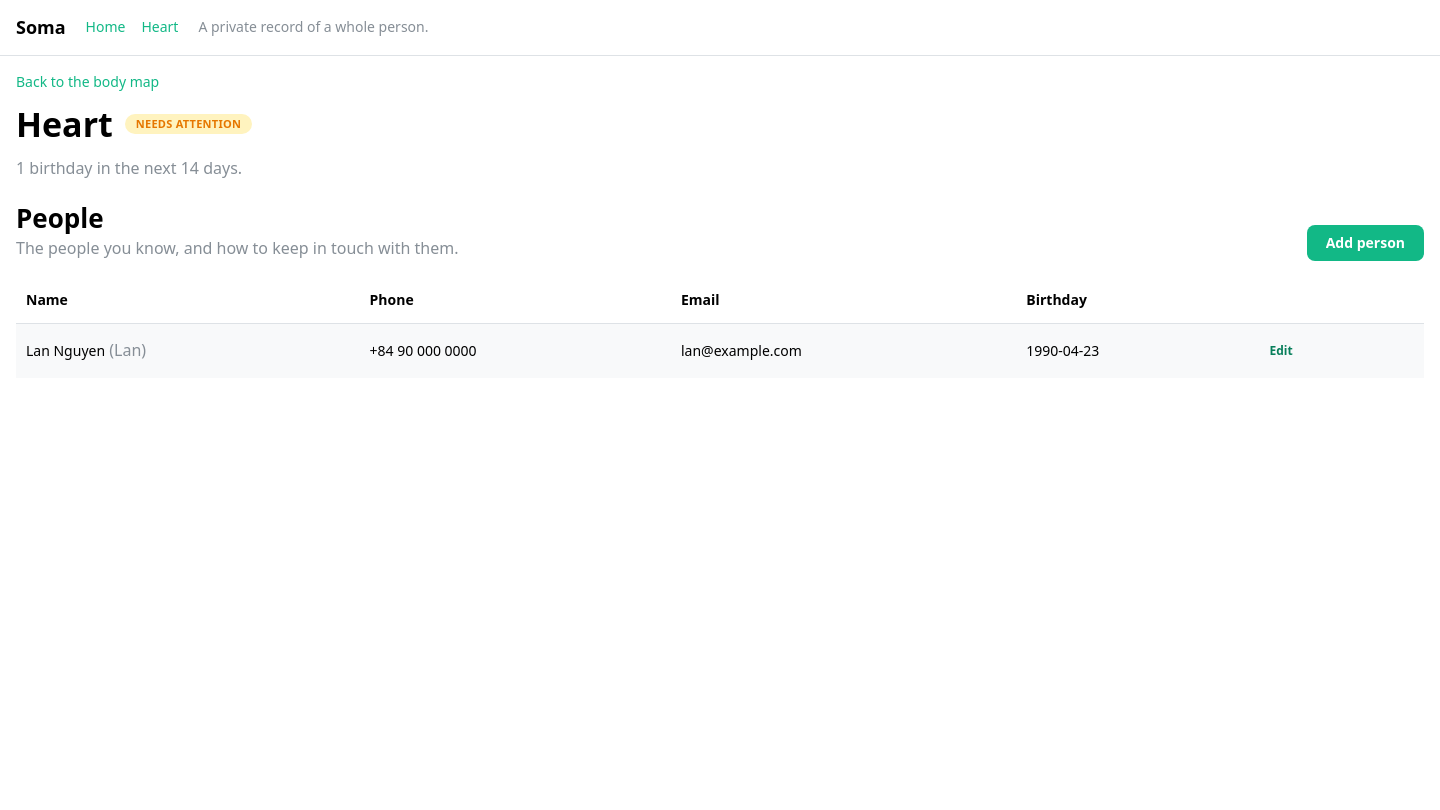
Test: People page › does not send a contact without a name
Expected: the text "Lan Nguyen" is shown, x1=26 y1=342 x2=105 y2=360
Click the button "Add person": (1365, 243) x1=1307 y1=225 x2=1424 y2=261
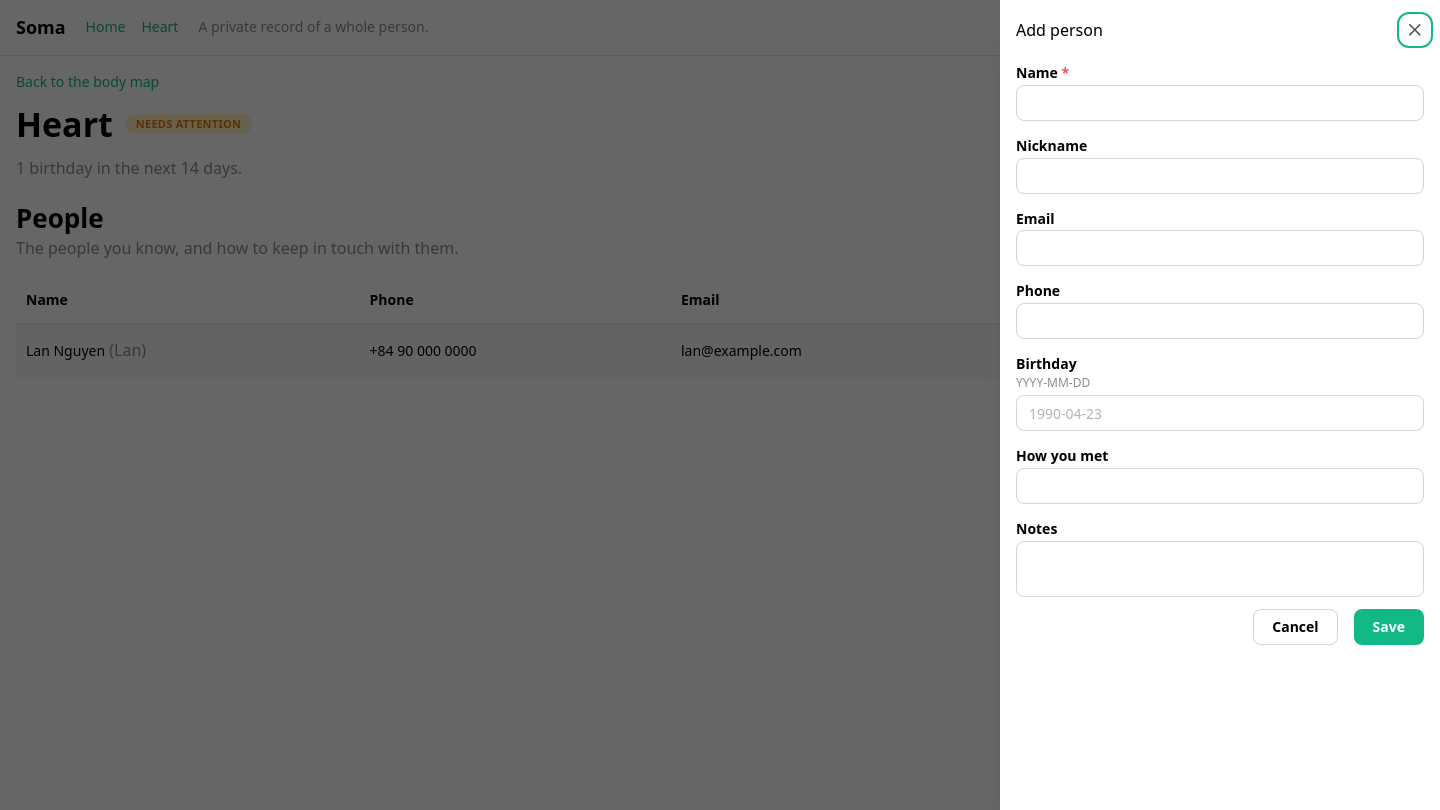
Click the button "Save": (1389, 627) x1=1354 y1=609 x2=1424 y2=645
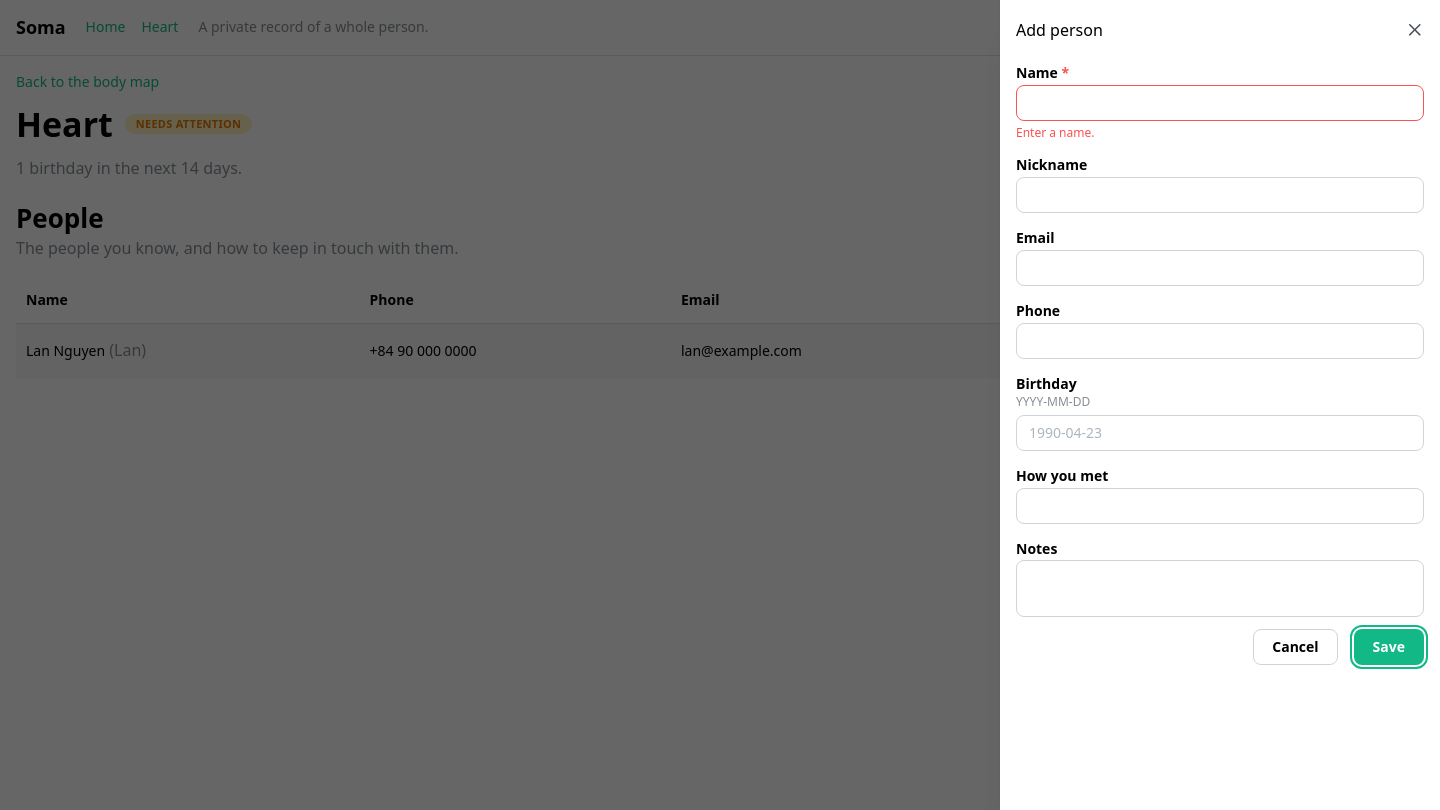
Expected: the text "Enter a name." is shown, x1=1016 y1=124 x2=1094 y2=141
